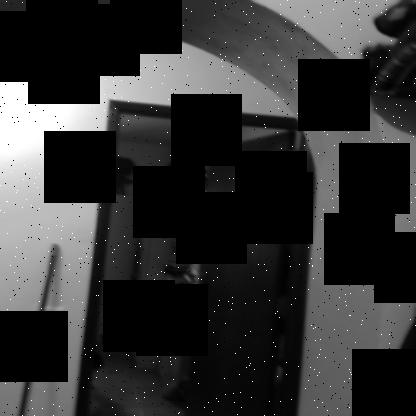Porte: (73, 99, 308, 416)
